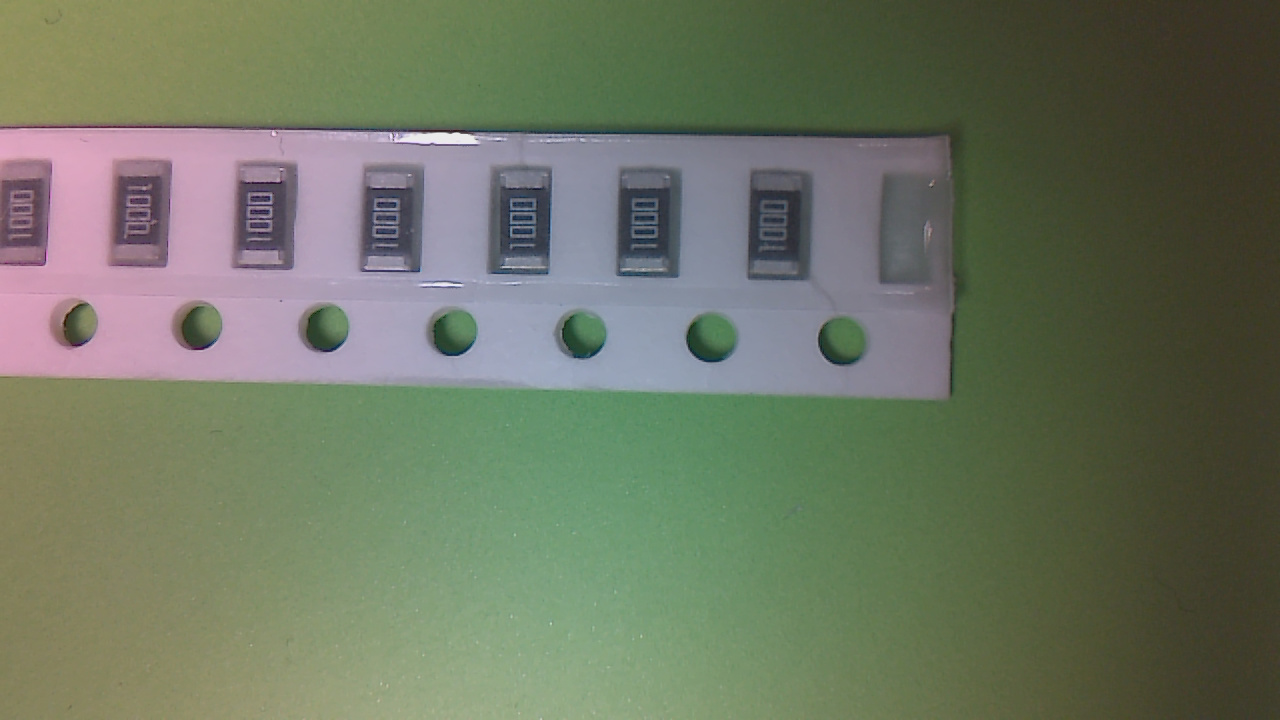Resistor: (621, 172, 685, 283), (755, 171, 814, 288), (495, 172, 558, 281), (365, 173, 427, 277), (240, 169, 301, 274), (115, 165, 174, 270), (8, 169, 56, 268)
